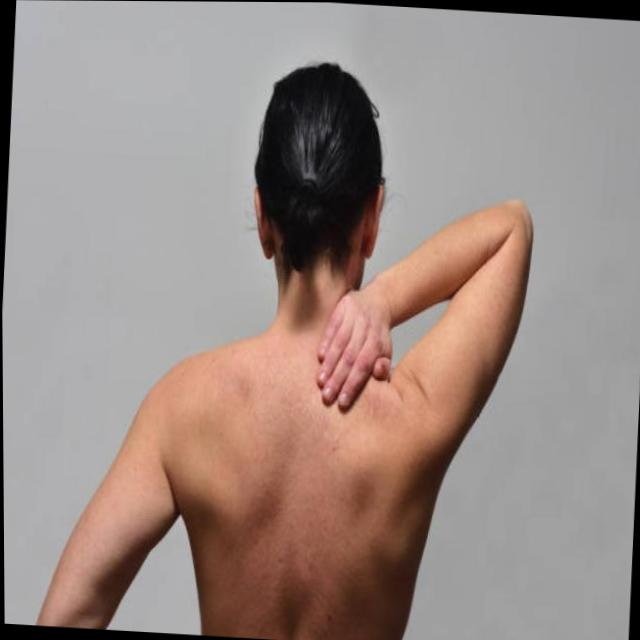no helmet: (234, 54, 396, 339)
